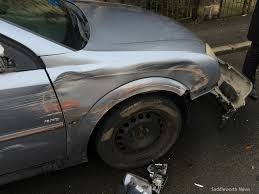Dent: (51, 69, 119, 105), (135, 61, 208, 82)
Scratch: (1, 90, 57, 106), (1, 142, 26, 156)
